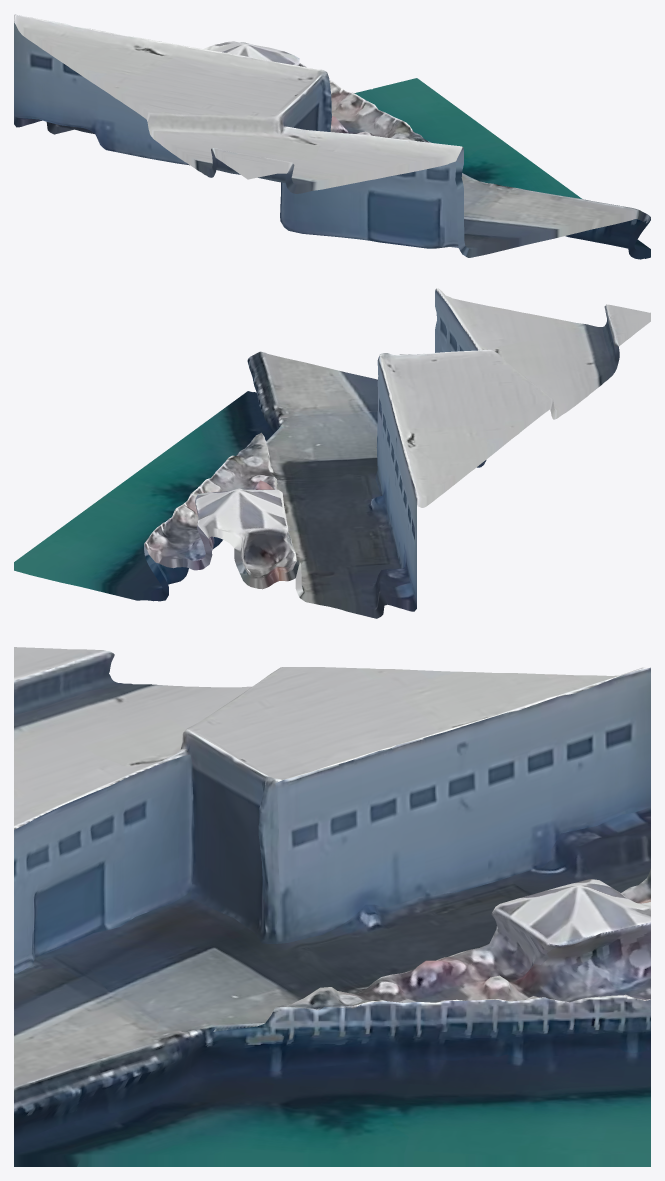
Rendered from z20-167770-405191-h0-yup-uvflip-v3-world.glb.
3 renders of one model, top to bottom at view 1: azimuth 30°, elevation 25°; view 2: azimuth 150°, elevation 25°; view 3: azimuth 270°, elevation 25°, orthographic. The views are drawn at different scales.
Size of the model in its own units: 30.16 by 13.28 by 30.32.
1 material, 1 textured.
